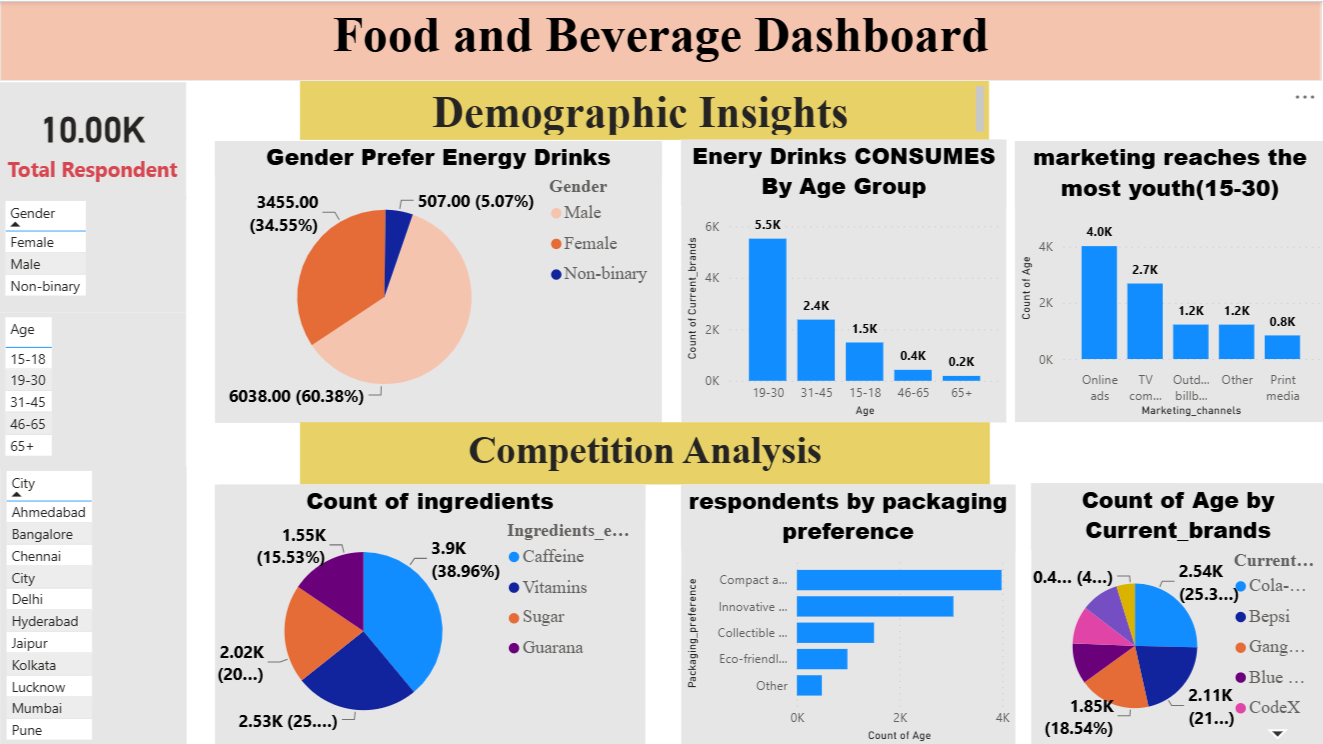

Layout of this report page (visuals, bound fields, positions):
{"tool":"powerbi","page":{"name":"fact_survey responses","canvas":[1280,720],"ordinal":0},"visuals":[{"type":"textbox","box":[290.7,77.1,665.1,56.8],"z":0},{"type":"textbox","box":[1.4,0,1274.9,77.1],"z":1000},{"type":"card","fields":{"Values":["CountNonNull(dim_repondents.Respondent_ID)"]},"box":[0,78.4,181.2,112.2],"z":2000},{"type":"tableEx","fields":{"Values":["dim_repondents.Gender"]},"box":[0,187.9,181.2,112.2],"z":3000},{"type":"tableEx","fields":{"Values":["dim_repondents.Age"]},"box":[0,300.1,181.2,150.1],"z":4000},{"type":"tableEx","fields":{"Values":["dim_cities.Column2"]},"box":[1.4,448.8,179.8,271.7],"z":5000},{"type":"pieChart","title":"Gender Prefer Energy Drinks","fields":{"Category":["dim_repondents.Gender"],"Y":["CountNonNull(fact_survey_responses.Current_brands)"]},"box":[208.2,135.2,431.3,271.7],"z":6000},{"type":"clusteredColumnChart","title":"Enery Drinks CONSUMES By Age Group","fields":{"Category":["dim_repondents.Age"],"Y":["CountNonNull(fact_survey_responses.Current_brands)"]},"box":[658.5,133.9,313.6,272.6],"z":7000},{"type":"clusteredColumnChart","title":"marketing reaches the most youth(15-30)","fields":{"Y":["CountNonNull(dim_repondents.Age)"],"Category":["fact_survey_responses.Marketing_channels"]},"box":[980.5,135.1,299.1,271.4],"z":8000},{"type":"textbox","box":[290.7,406.4,665.7,60.3],"z":9000},{"type":"pieChart","title":"Count of ingredients","fields":{"Y":["CountNonNull(dim_repondents.Respondent_ID)"],"Category":["fact_survey_responses.Ingredients_expected"]},"box":[208.6,466.7,414.9,253.3],"z":10000},{"type":"barChart","title":"respondents by packaging preference","fields":{"Y":["CountNonNull(dim_repondents.Age)"],"Category":["fact_survey_responses.Packaging_preference"]},"box":[658.5,466.7,322,253.3],"z":11000},{"type":"pieChart","fields":{"Y":["CountNonNull(dim_repondents.Age)"],"Category":["fact_survey_responses.Current_brands"]},"box":[996.2,465.5,283.4,254.5],"z":12000}]}

Visuals, with their boxes in screenshot pixels (x1, y1, x2, y2), scaled from the page's 1280x720 canvas onto the 1323x744 screenshot:
textbox: <bbox>300, 80, 988, 138</bbox>
textbox: <bbox>1, 0, 1319, 80</bbox>
card - CountNonNull(dim_repondents.Respondent_ID): <bbox>0, 81, 187, 197</bbox>
tableEx - dim_repondents.Gender: <bbox>0, 194, 187, 310</bbox>
tableEx - dim_repondents.Age: <bbox>0, 310, 187, 465</bbox>
tableEx - dim_cities.Column2: <bbox>1, 464, 187, 743</bbox>
"Gender Prefer Energy Drinks" pieChart: <bbox>215, 140, 661, 420</bbox>
"Enery Drinks CONSUMES By Age Group" clusteredColumnChart: <bbox>681, 138, 1005, 420</bbox>
"marketing reaches the most youth(15-30)" clusteredColumnChart: <bbox>1013, 140, 1322, 420</bbox>
textbox: <bbox>300, 420, 989, 482</bbox>
"Count of ingredients" pieChart: <bbox>216, 482, 644, 743</bbox>
"respondents by packaging preference" barChart: <bbox>681, 482, 1013, 743</bbox>
pieChart - CountNonNull(dim_repondents.Age) x fact_survey_responses.Current_brands: <bbox>1030, 481, 1322, 743</bbox>
